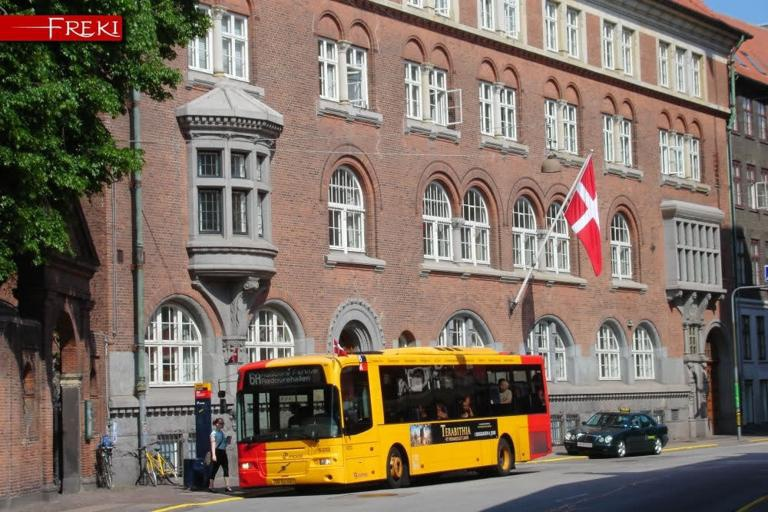non-vehicle: (137, 437, 179, 486), (94, 435, 115, 488)
